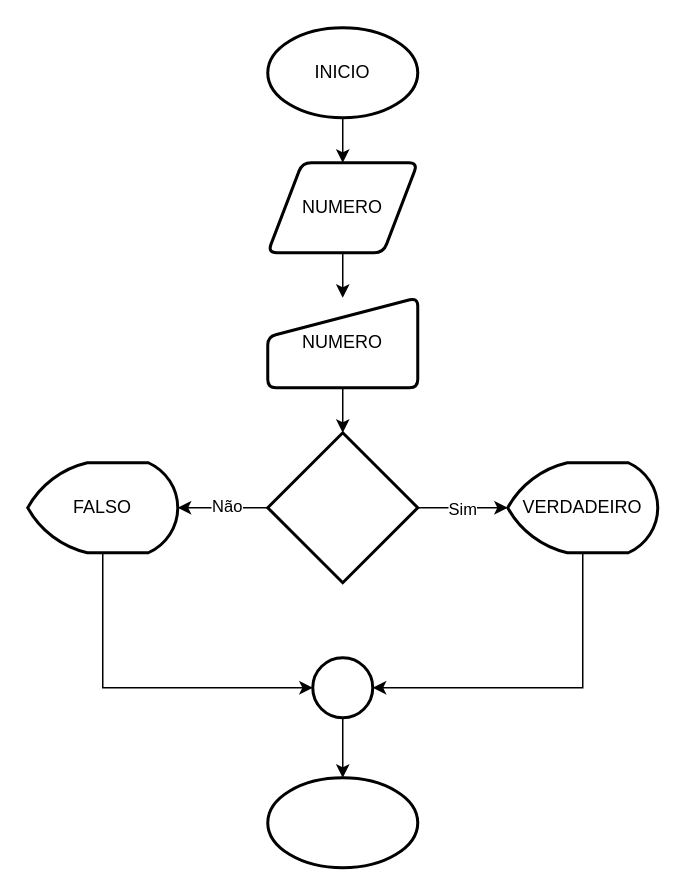
The diagram is 684 pixels wide and 894 high, and some of its shapes have lost their labels. Here are the shapes that lost their labels. From the top down, the box of each, then its label:
(266, 430, 418, 584): NUMERO > 0
(266, 776, 418, 868): FIM
